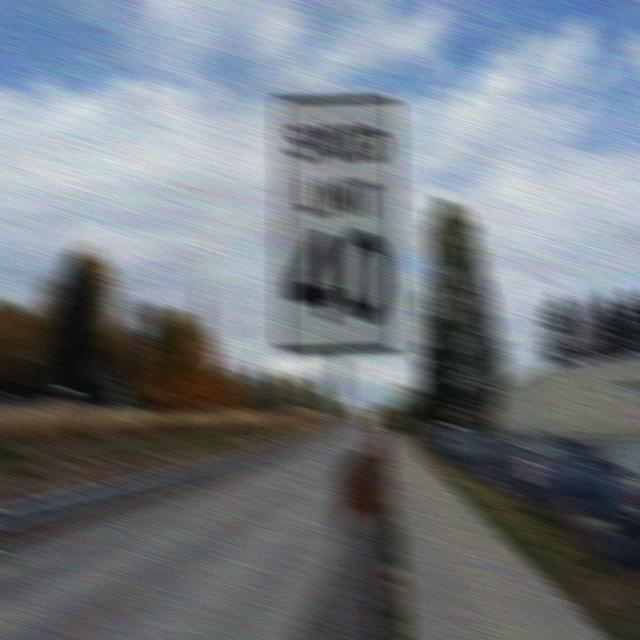speedLimit40: (280, 89, 401, 354)
